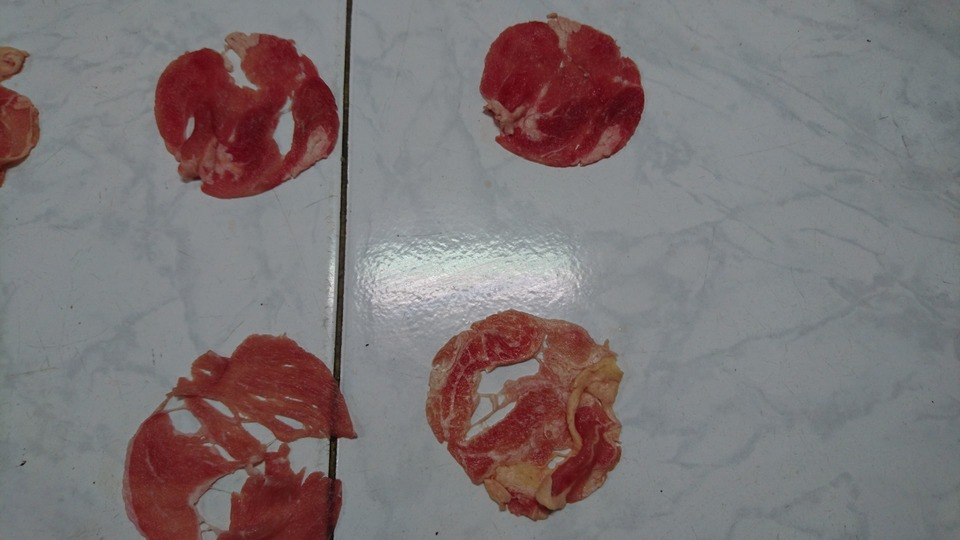restructured meat: (97, 330, 349, 540), (420, 313, 642, 515), (150, 39, 351, 202), (467, 22, 651, 180)
